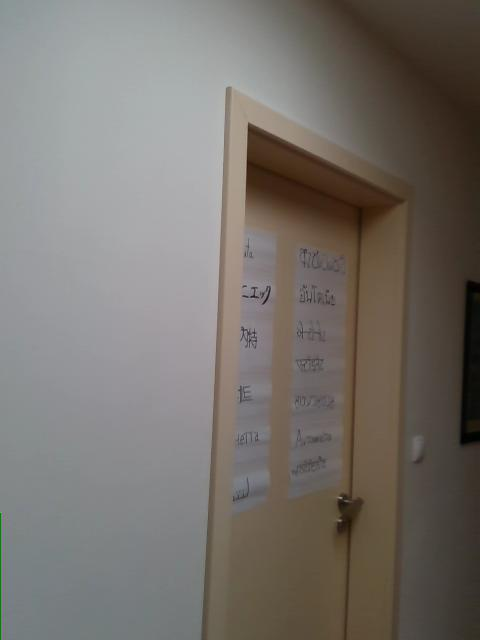door: (228, 168, 367, 639)
